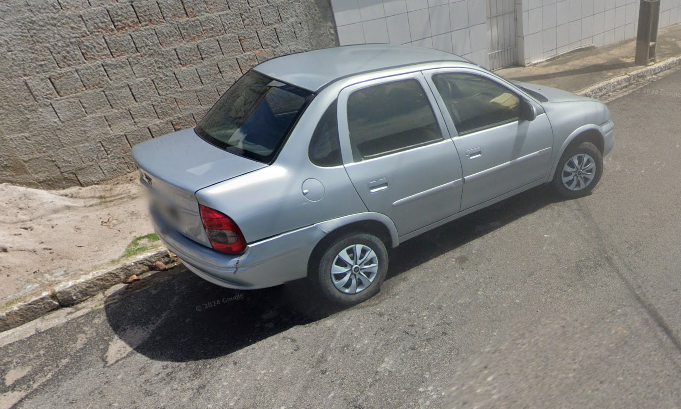car: (122, 38, 618, 308)
